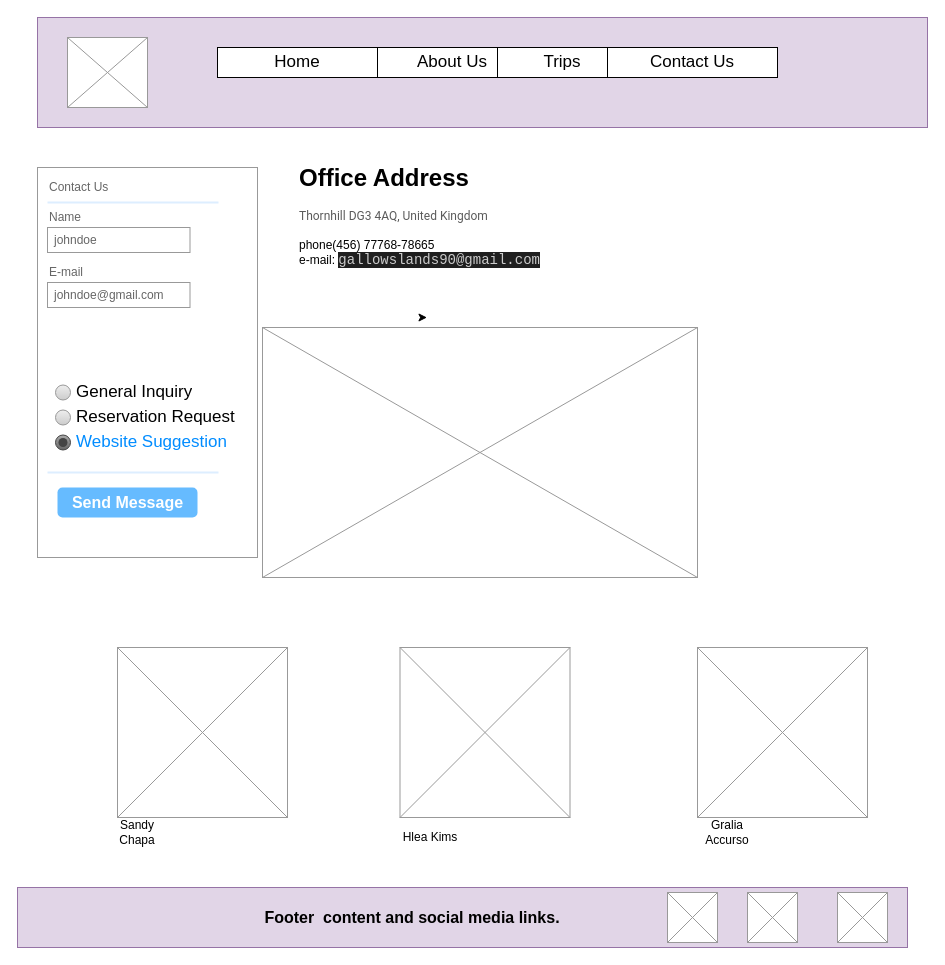
This 945x965 diagram has some shape labels left out. Here are the shapes that lost their labels. From the top down, the box of each, then its label:
(36, 166, 258, 558): Reason for contacting us:
(262, 326, 698, 578): Google Map showing office location
